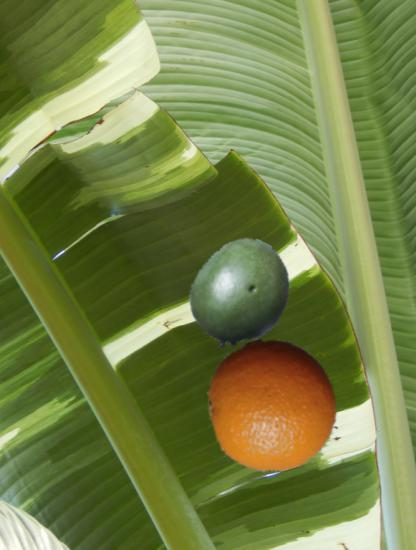Mango: (184, 237, 298, 351)
Orange: (205, 339, 338, 472)
